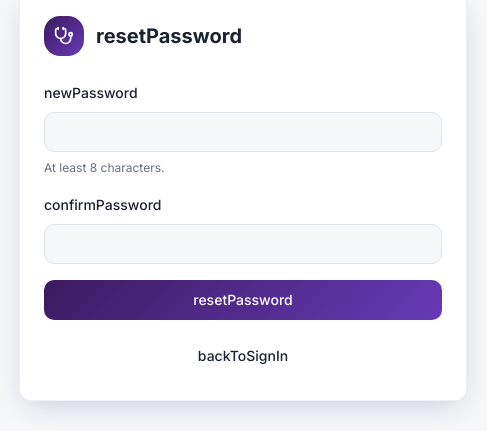
password recovery screen › does not repeat an unconfirmed password change after a lost response
In the password field labelled "newPassword": [243, 132] box top-left (44, 112), bottom-right (442, 152), type "synthetic-password"
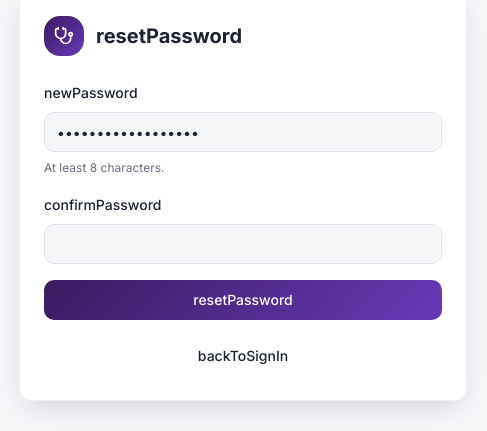
In the password field labelled "confirmPassword": [243, 244] box top-left (44, 224), bottom-right (442, 264), type "synthetic-password"
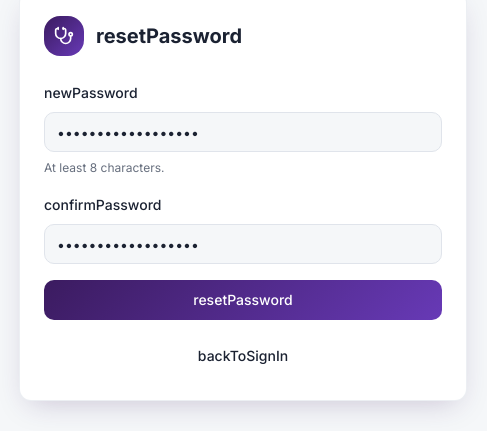
Submit the form labelled "newPassword", box top-left (44, 80), bottom-right (442, 376)
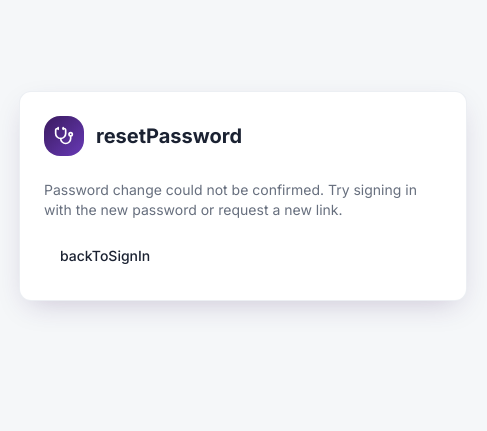
expect the message shows "could not be confirmed": met, box top-left (44, 181), bottom-right (417, 218)
